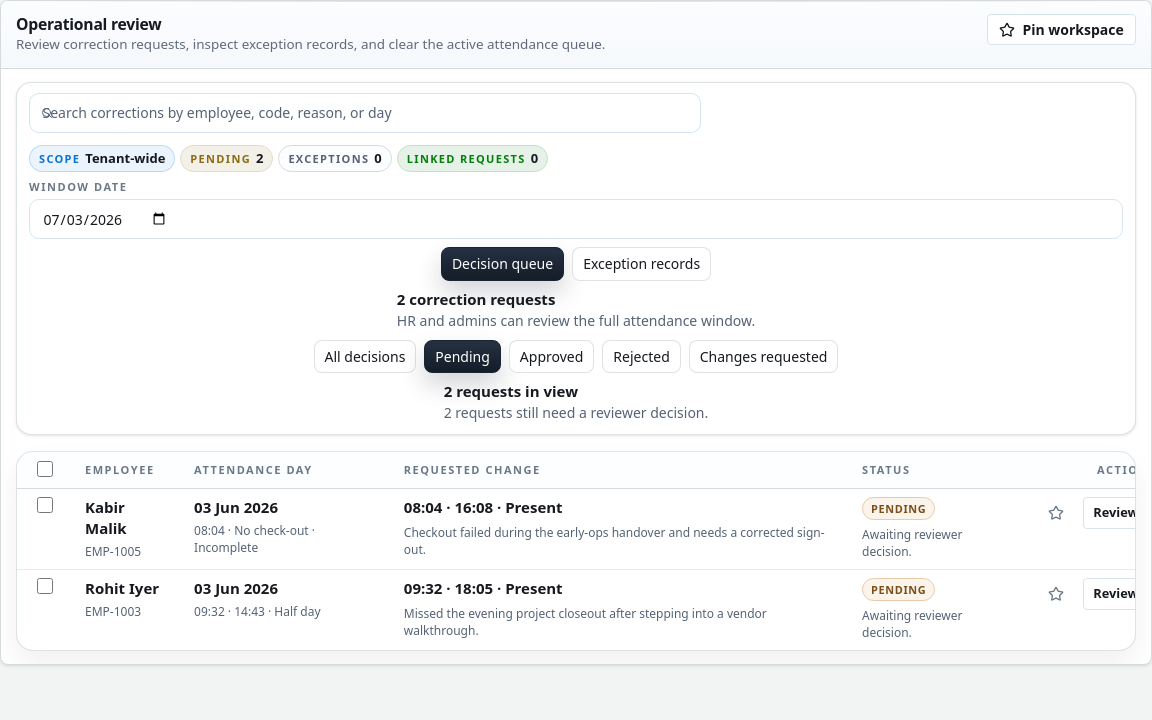
AttendanceReviewWorkspace › surfaces rejected decisions with recorded reviewer history
The image size is (1152, 720).
Click the tab "Rejected". click: (642, 357)
box: [602,340,681,374]
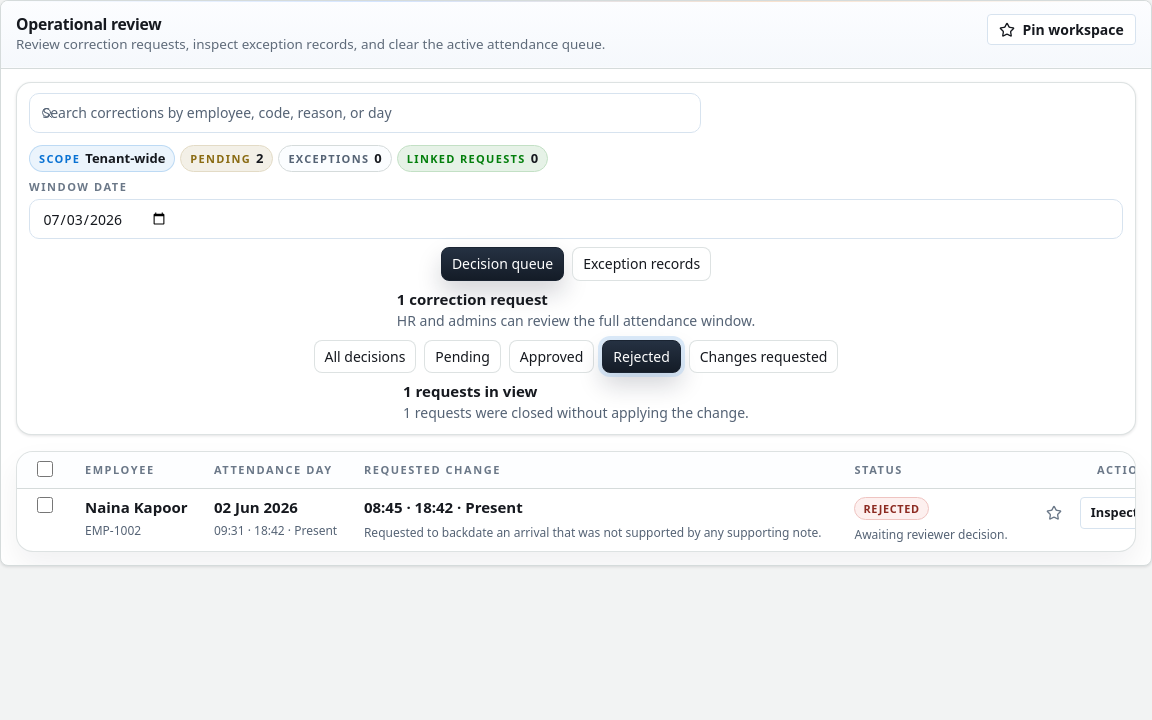
Now the button with aria-label "naina kapoor" is shown, box [1080,497,1135,529]
Click the button with aria-label "naina kapoor". click: (1115, 513)
box: [1080,497,1149,529]
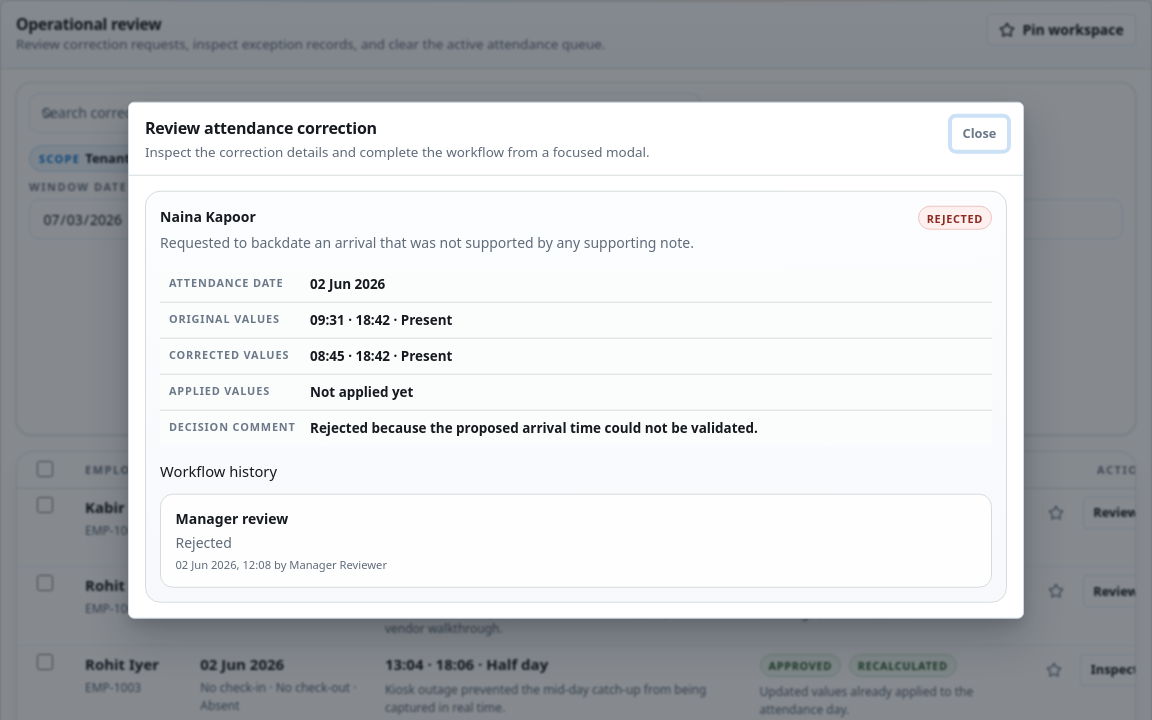
Now the text "Rejected because the proposed arrival time could not be validated" is shown, box [310,418,758,436]
Now the heading "Workflow history" is shown, box [160,461,277,481]
